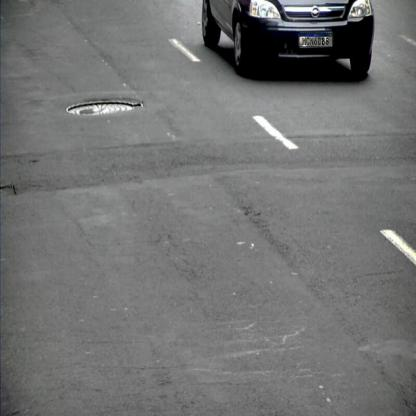PlacaM: (299, 33, 333, 47)
